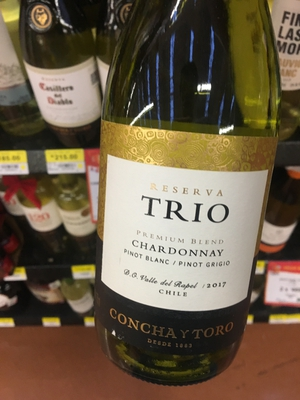trio chardonnay: (94, 20, 289, 386)
